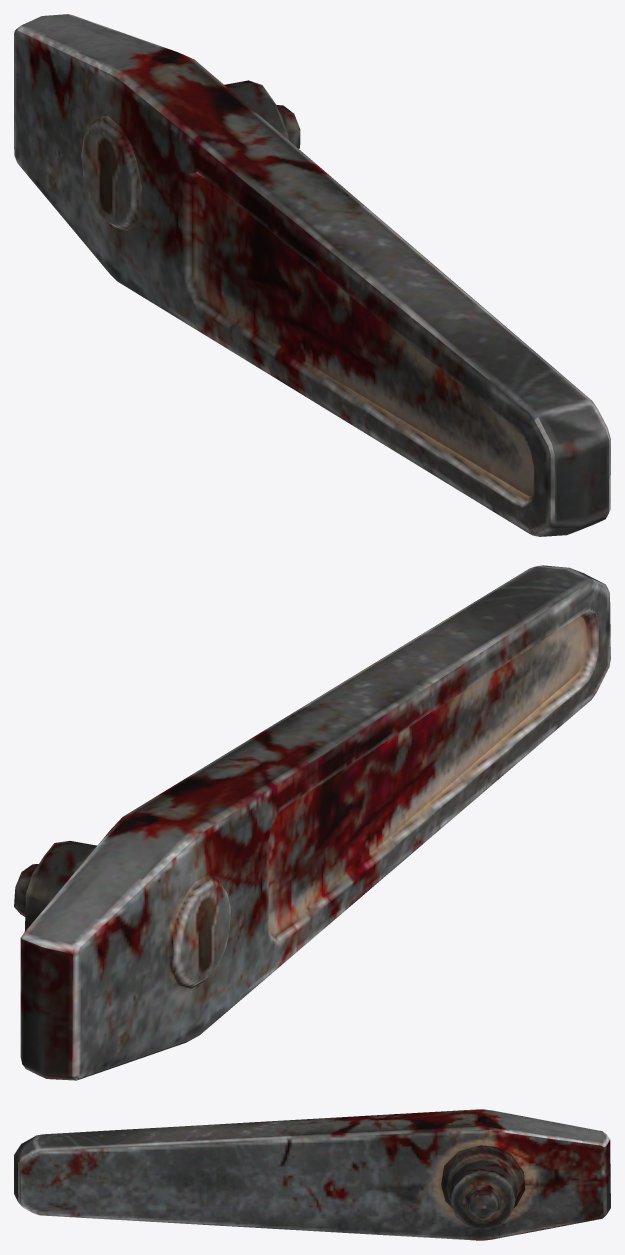
Rendered from plane_wreckage_door_handle.dae.
3 renders of one model, top to bottom at view 1: azimuth 30°, elevation 25°; view 2: azimuth 150°, elevation 25°; view 3: azimuth 270°, elevation 25°, orthographic. The views are drawn at different scales.
Parts seen in each view (by area): view 1: plane_wreckage_door_handle; view 2: plane_wreckage_door_handle; view 3: plane_wreckage_door_handle.
Boxes of the visible parts, x1,y1,x2,y2 form: plane_wreckage_door_handle: [14, 14, 610, 536]; plane_wreckage_door_handle: [14, 565, 610, 1080]; plane_wreckage_door_handle: [14, 1109, 610, 1240].
Bounding box in the file's own units: 5.88 × 6.7 × 30.68.
